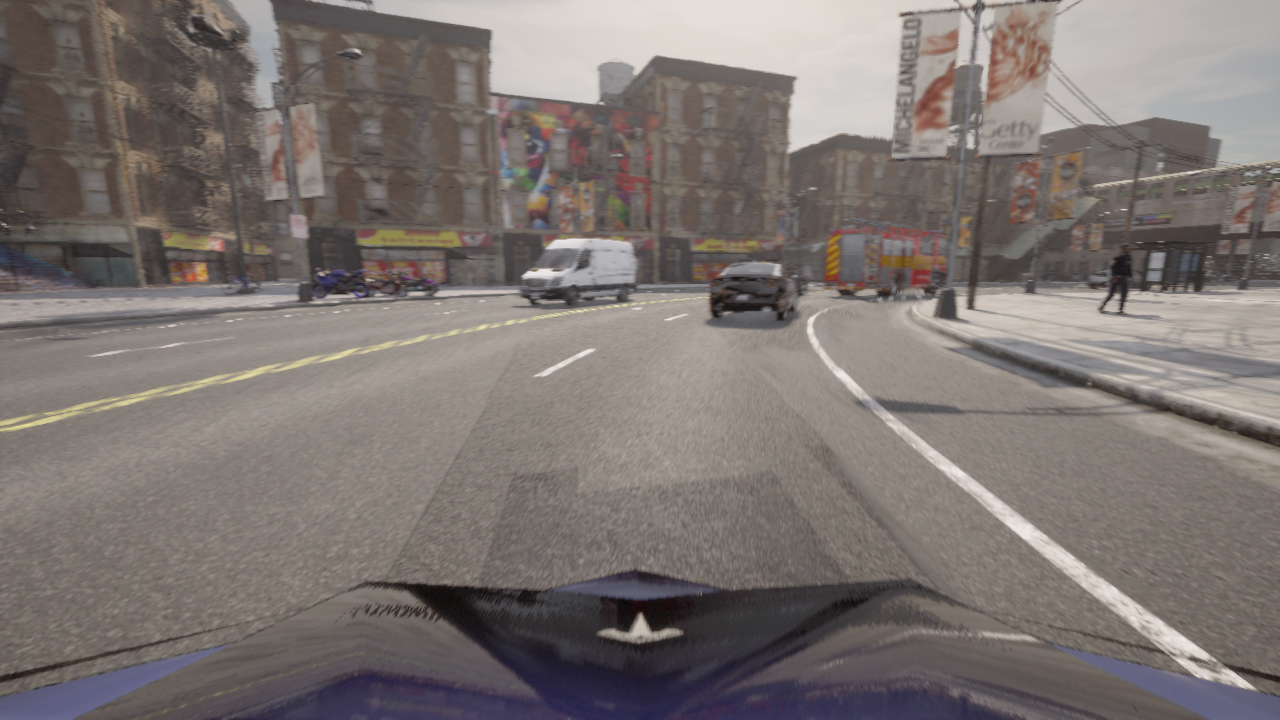cyclist: (0, 569, 1279, 719), (823, 218, 948, 297), (519, 238, 635, 306), (709, 257, 798, 320), (311, 268, 369, 298), (385, 268, 438, 295), (1088, 269, 1152, 290), (366, 269, 407, 296), (221, 273, 261, 294), (782, 265, 807, 295), (1216, 274, 1239, 282), (1205, 273, 1217, 282), (898, 289, 909, 291), (1227, 273, 1229, 275), (1208, 272, 1210, 273)
pedestrian: (1098, 243, 1133, 314)
